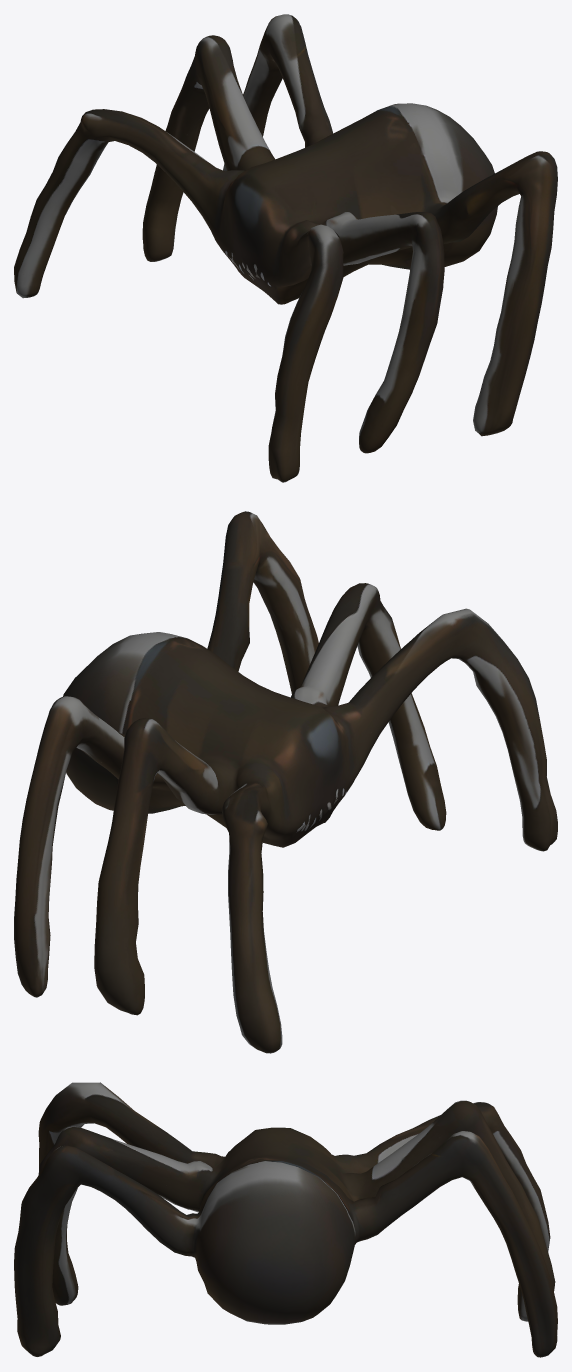
Rendered from prototip_spider.glb.
The picture shows the model from 3 angles, top to bottom: view 1: azimuth 30°, elevation 25°; view 2: azimuth 150°, elevation 25°; view 3: azimuth 270°, elevation 25°; orthographic projection. The views are drawn at different scales.
Parts seen in each view (by area): view 1: tripo_node_be059afb; view 2: tripo_node_be059afb; view 3: tripo_node_be059afb.
Part boxes in pixels (left/top/right/bottom): tripo_node_be059afb: left=14, top=14, right=557, bottom=482; tripo_node_be059afb: left=14, top=511, right=557, bottom=1053; tripo_node_be059afb: left=14, top=1082, right=557, bottom=1357.
Size of the model in its own units: 66.95 by 49.03 by 99.89.
1 material, 1 textured.
